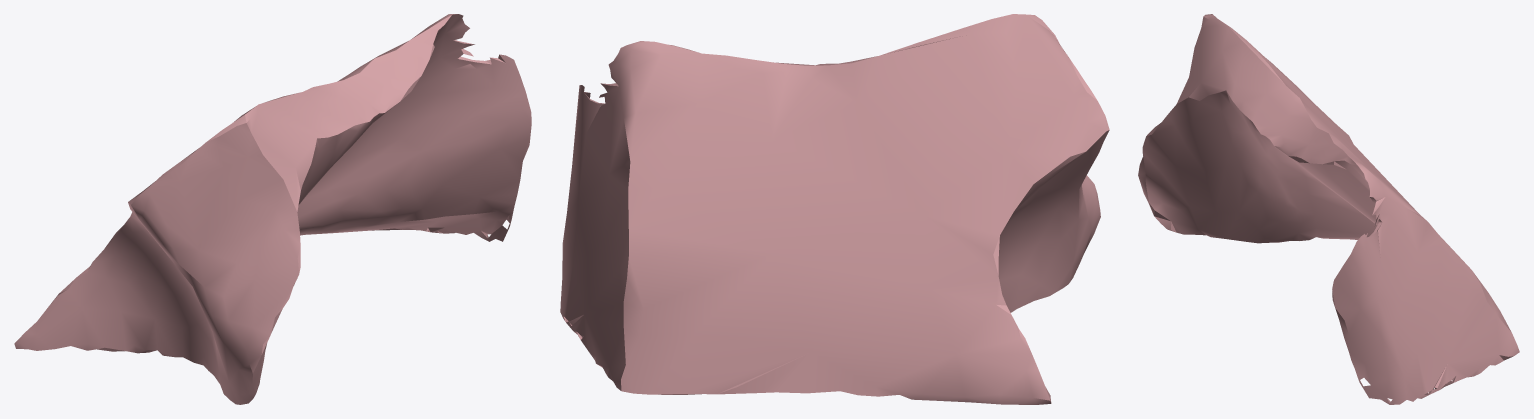
Rendered from fma61092_mm1273m.glb.
3 renders of one model, left to right at view 1: azimuth 30°, elevation 25°; view 2: azimuth 150°, elevation 25°; view 3: azimuth 270°, elevation 25°, orthographic. The views are drawn at different scales.
Parts seen in each view (by area): view 1: FMA61092_MM1273M; view 2: FMA61092_MM1273M; view 3: FMA61092_MM1273M.
Part boxes in pixels (x1,y1,x2,y2): FMA61092_MM1273M: (14, 14, 531, 404); FMA61092_MM1273M: (560, 14, 1109, 404); FMA61092_MM1273M: (1138, 14, 1519, 404).
Size of the model in its own units: 0.0158 by 0.00917 by 0.0127.
